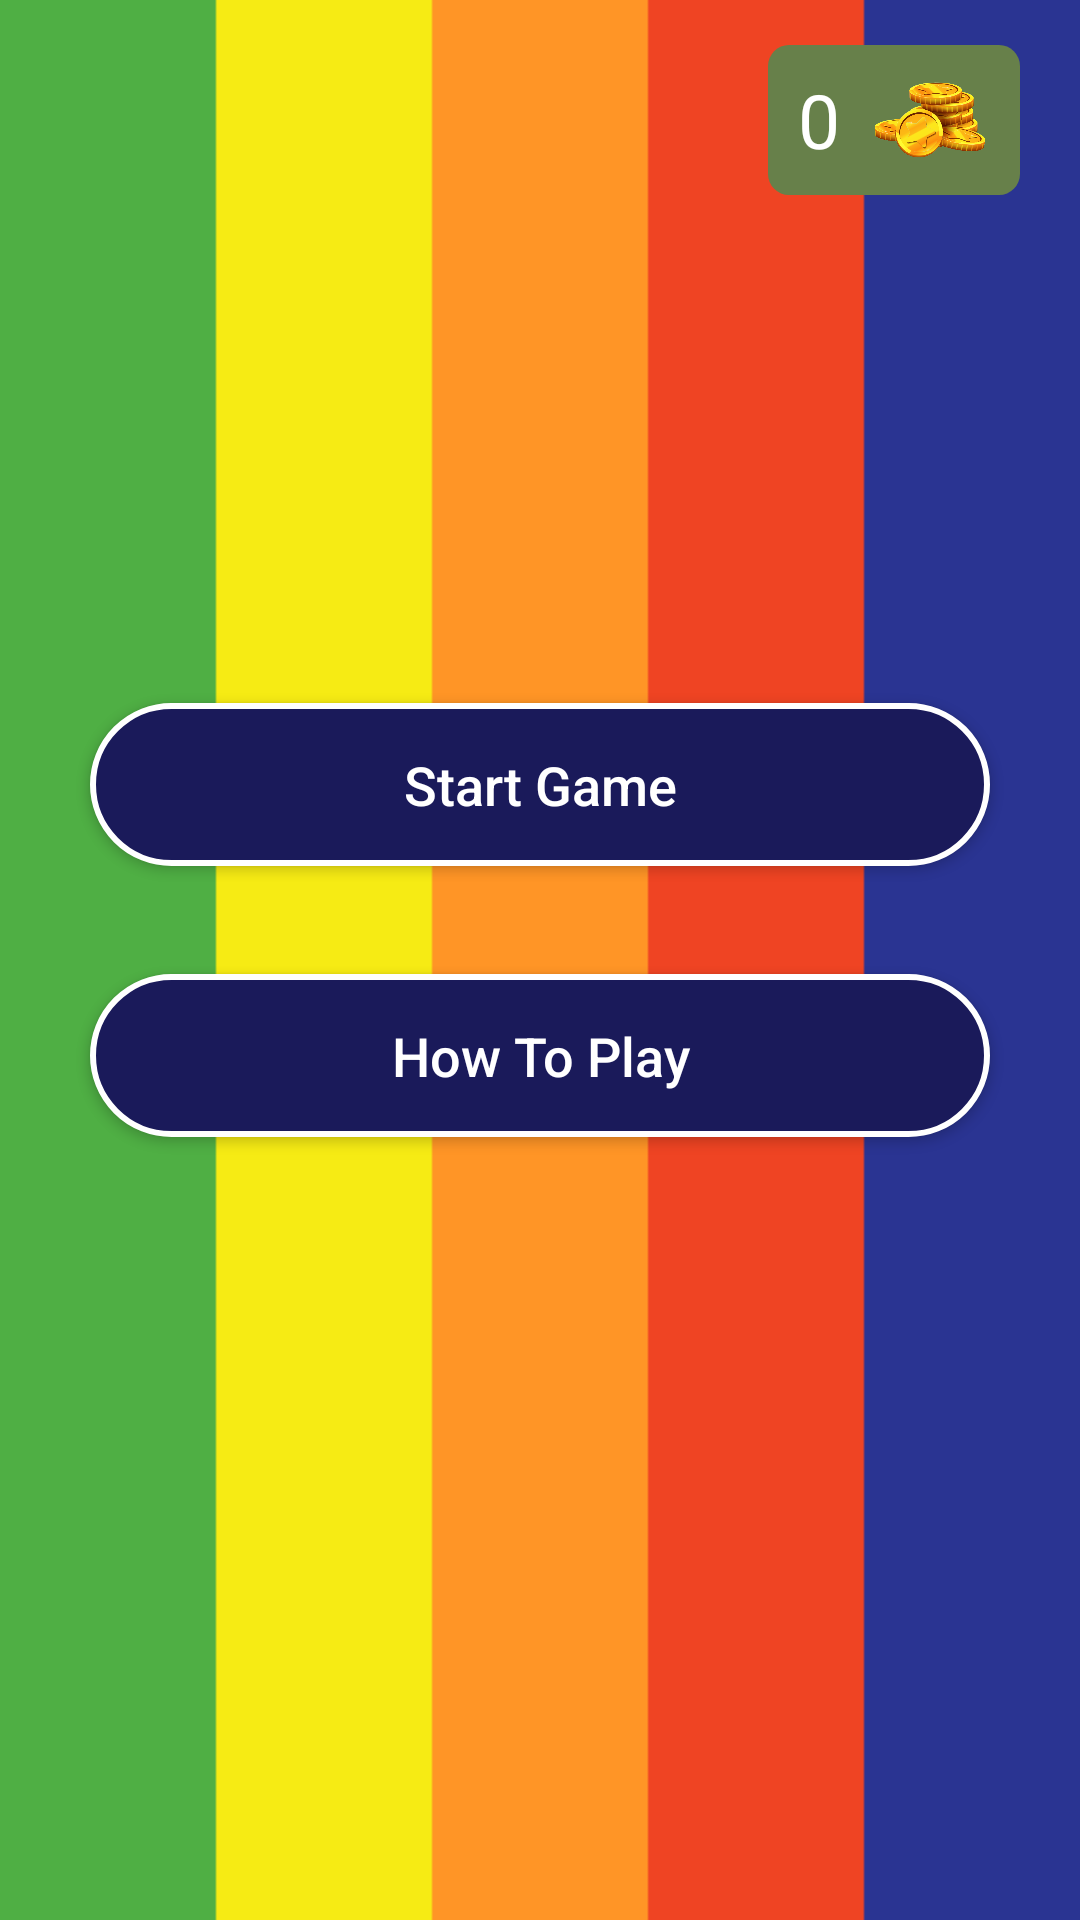

Screen size 1080px×1920px. Icon name, then its box in pixels as (x1, y1, x2, y2):
coins: (875, 82, 985, 157)
